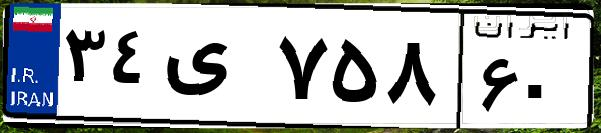0: (525, 38, 570, 115)
3: (57, 26, 110, 100)
4: (110, 28, 158, 98)
5: (330, 28, 385, 110)
6: (475, 38, 525, 113)
7: (270, 28, 330, 110)
8: (385, 28, 445, 110)
ی: (158, 20, 270, 120)
